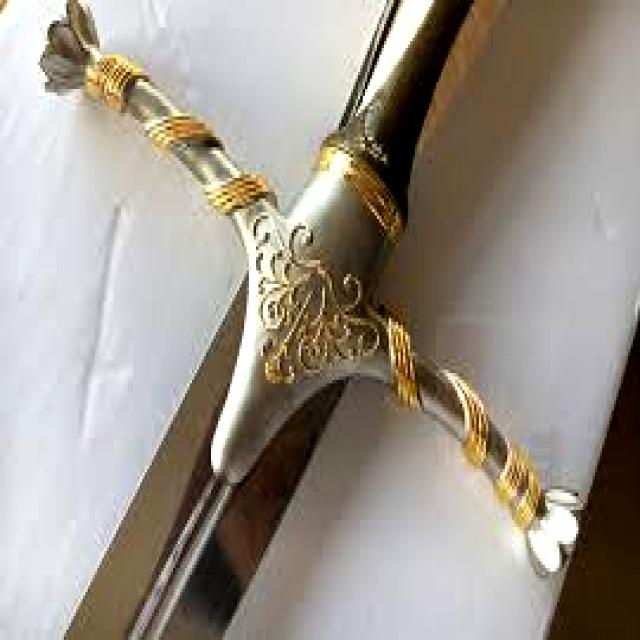long sword: (37, 4, 584, 633)
